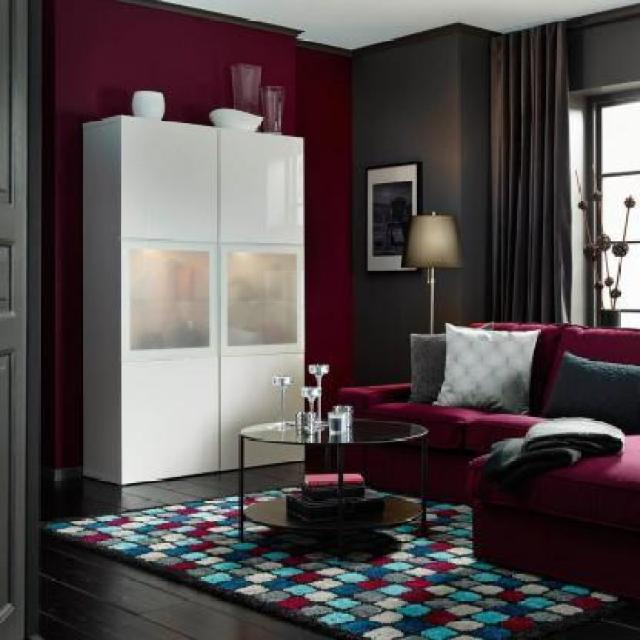tables: (237, 417, 429, 557)
